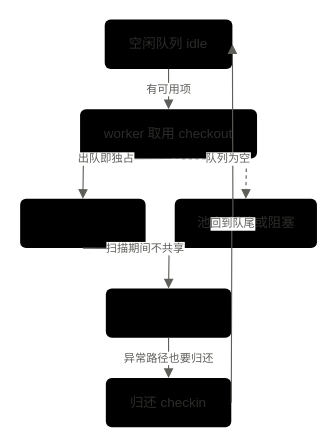
Image size: 336x447. Some labels were removed from this diagram. The shapes that lost their labels are listed below. From the top down, each one's centre as x and y in pixels, then its label:
At pixel 82 223: "标记 in_use".
At pixel 168 312: "hs_scan 扫描".
